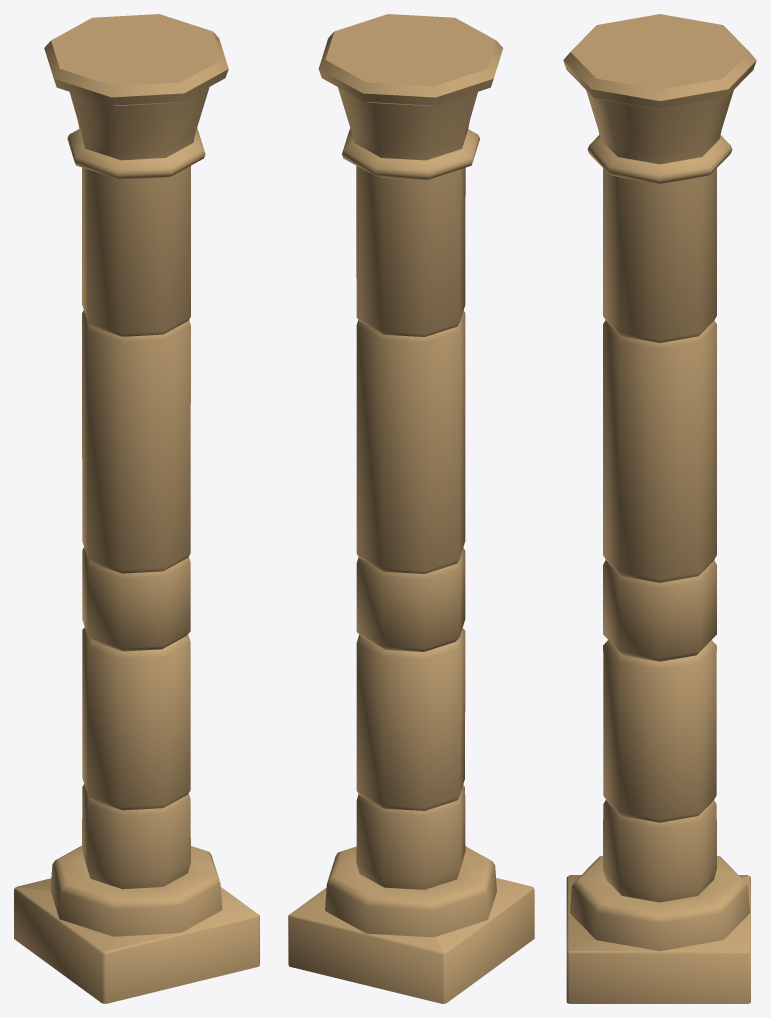
File: PillarStraight.fbx
3 renders of one model, left to right at view 1: azimuth 30°, elevation 25°; view 2: azimuth 150°, elevation 25°; view 3: azimuth 270°, elevation 25°, orthographic.
Parts seen in each view (by area): view 1: PillarPerfect; view 2: PillarPerfect; view 3: PillarPerfect.
Boxes of the visible parts, left/top/right/bottom form: PillarPerfect: left=14, top=14, right=259, bottom=1003; PillarPerfect: left=288, top=14, right=534, bottom=1003; PillarPerfect: left=563, top=14, right=756, bottom=1003.
Bounding box in the file's own units: 210 × 1093 × 210.
